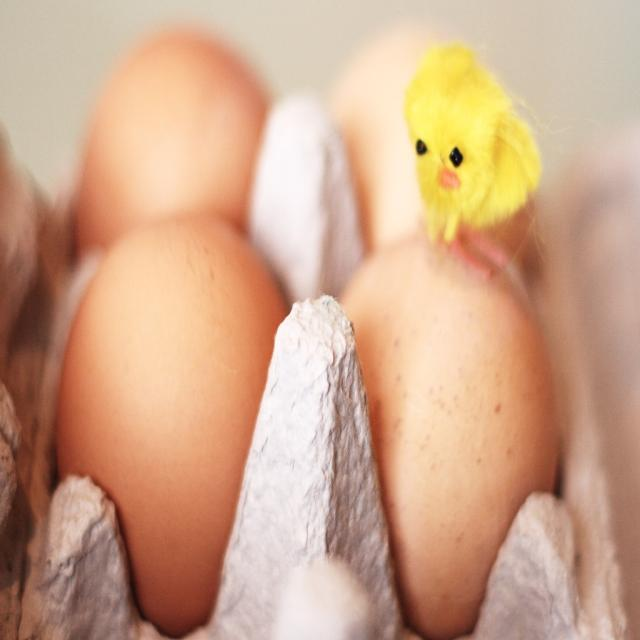Egg: (55, 238, 561, 638)
